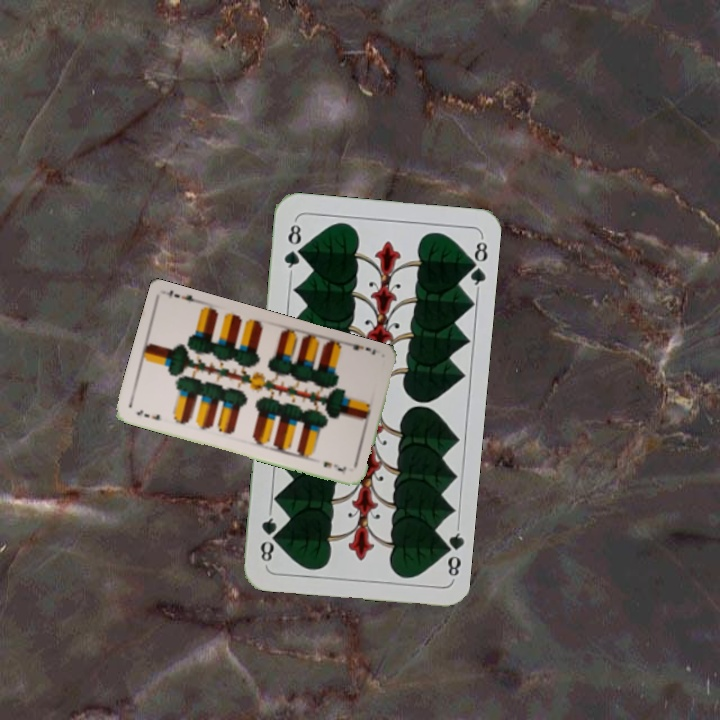E7: (344, 338, 379, 358), (132, 406, 163, 423)
G8: (437, 522, 466, 582), (280, 217, 305, 276)
